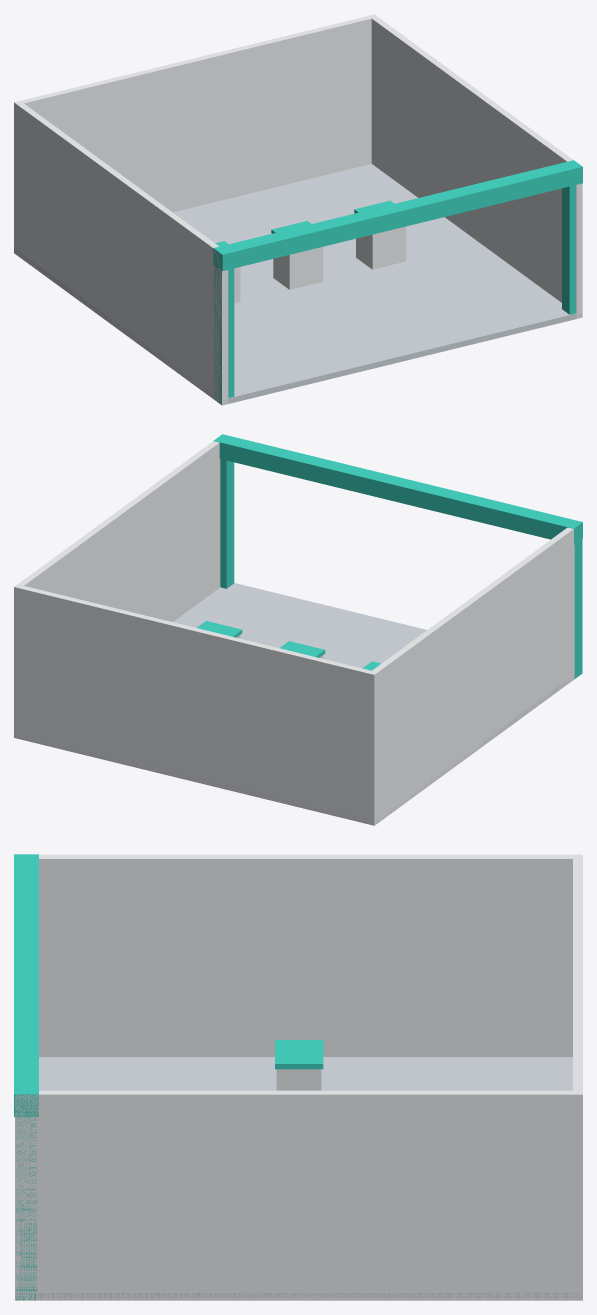
3 views of the same model, one above another, from view 1: azimuth 30°, elevation 25°; view 2: azimuth 150°, elevation 25°; view 3: azimuth 270°, elevation 25° (orthographic). The views are drawn at different scales.
Visible parts, largest first — view 1: Exhibition Booth Concept; view 2: Exhibition Booth Concept; view 3: Exhibition Booth Concept.
Part boxes in pixels (x1=…): Exhibition Booth Concept: x1=14, y1=14, x2=582, y2=405; Exhibition Booth Concept: x1=14, y1=434, x2=582, y2=825; Exhibition Booth Concept: x1=14, y1=854, x2=582, y2=1300.
Size of the model in its own units: 8 by 3.2 by 8.01.
